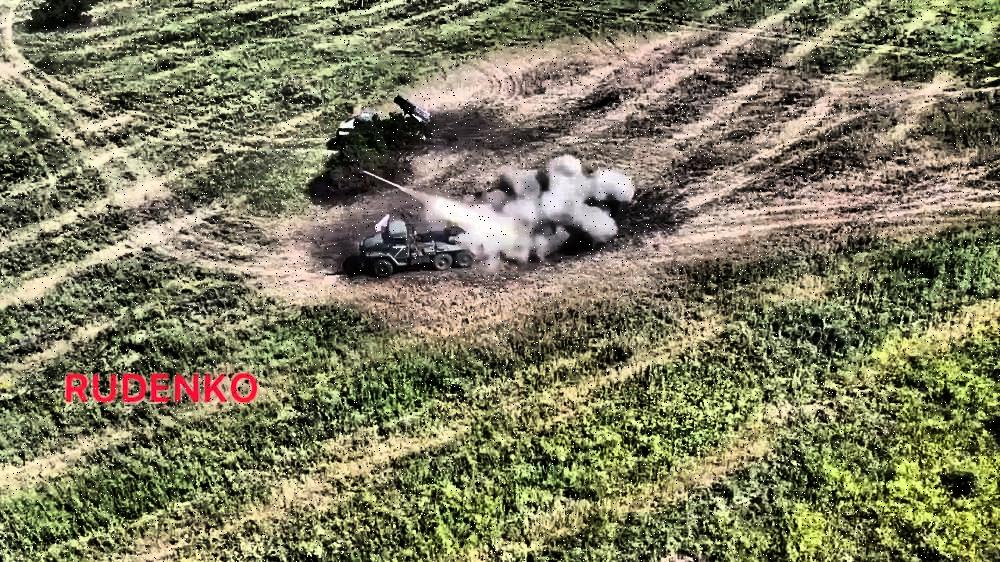military-vehicle: (357, 209, 476, 277), (336, 97, 435, 145)
